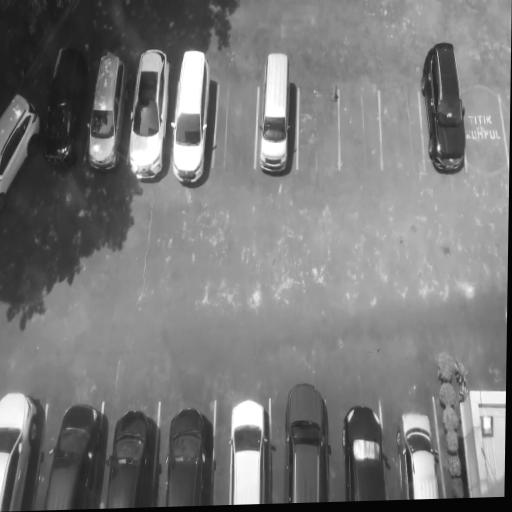Car: (42, 399, 106, 509), (106, 397, 164, 509), (421, 40, 469, 175), (171, 40, 213, 191), (0, 385, 50, 509), (285, 373, 333, 502), (0, 79, 45, 214), (165, 400, 217, 505), (42, 44, 82, 179), (130, 42, 168, 184), (257, 47, 296, 179), (228, 393, 273, 504), (343, 400, 389, 500), (397, 405, 445, 500), (90, 49, 125, 177)
Space Available: (296, 65, 340, 178), (340, 67, 383, 178), (216, 69, 256, 180), (465, 68, 505, 177), (382, 68, 422, 172)
